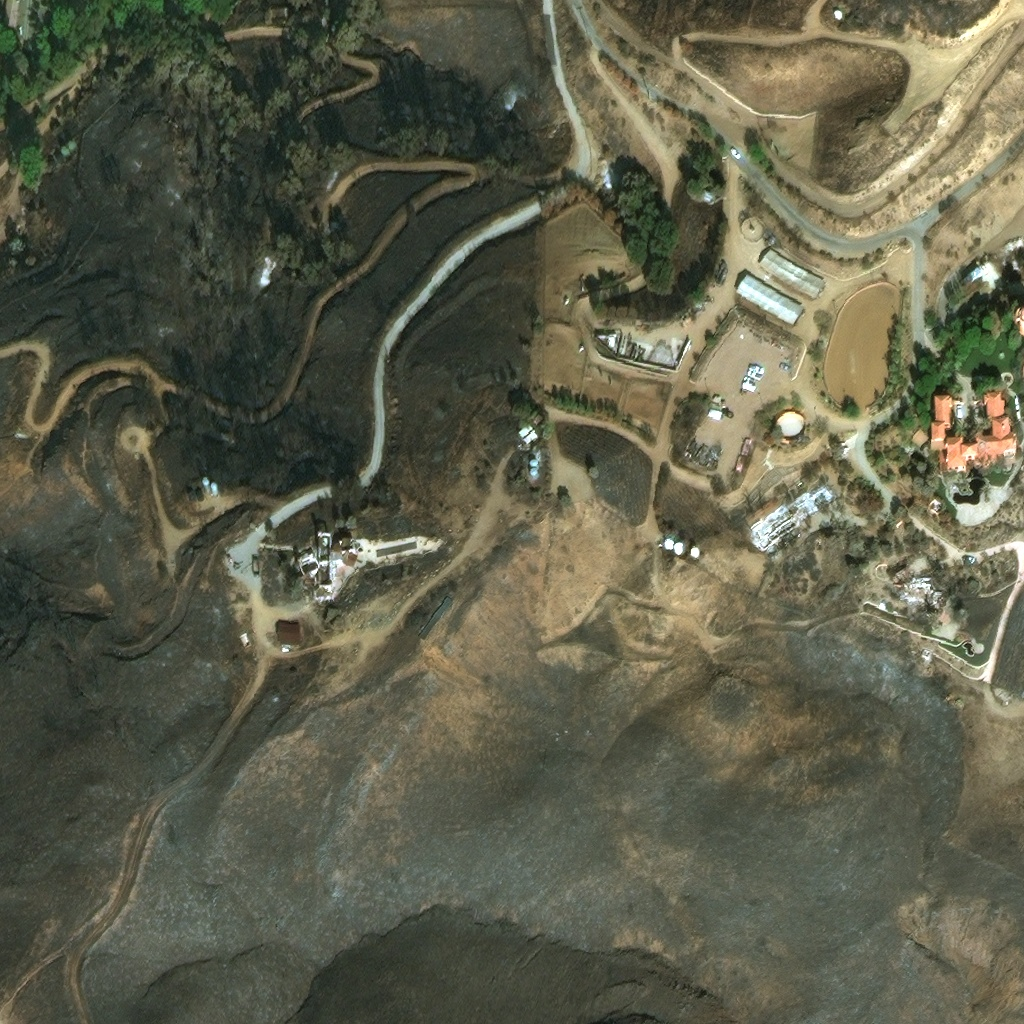0 no-damage: (735, 273, 803, 324), (757, 247, 825, 298), (973, 419, 1016, 465), (416, 599, 452, 643), (939, 439, 977, 475), (960, 266, 988, 292), (696, 407, 722, 433), (982, 394, 1004, 422), (376, 540, 417, 555), (933, 396, 951, 430), (2, 0, 20, 29), (929, 423, 946, 452), (516, 423, 538, 445), (277, 620, 301, 640), (688, 550, 699, 561), (673, 545, 683, 557), (663, 541, 673, 553), (529, 469, 540, 478), (201, 477, 211, 486), (832, 11, 842, 20), (529, 459, 539, 468), (211, 482, 219, 490), (282, 643, 289, 649)
2 major-damage: (296, 530, 357, 591), (927, 498, 942, 516)
3 destroyed: (893, 566, 947, 618), (752, 505, 796, 549), (797, 482, 835, 516), (699, 445, 719, 467), (714, 260, 730, 285), (690, 441, 708, 461), (681, 438, 698, 457), (730, 514, 741, 525)
4 un-classified: (232, 550, 242, 558)
